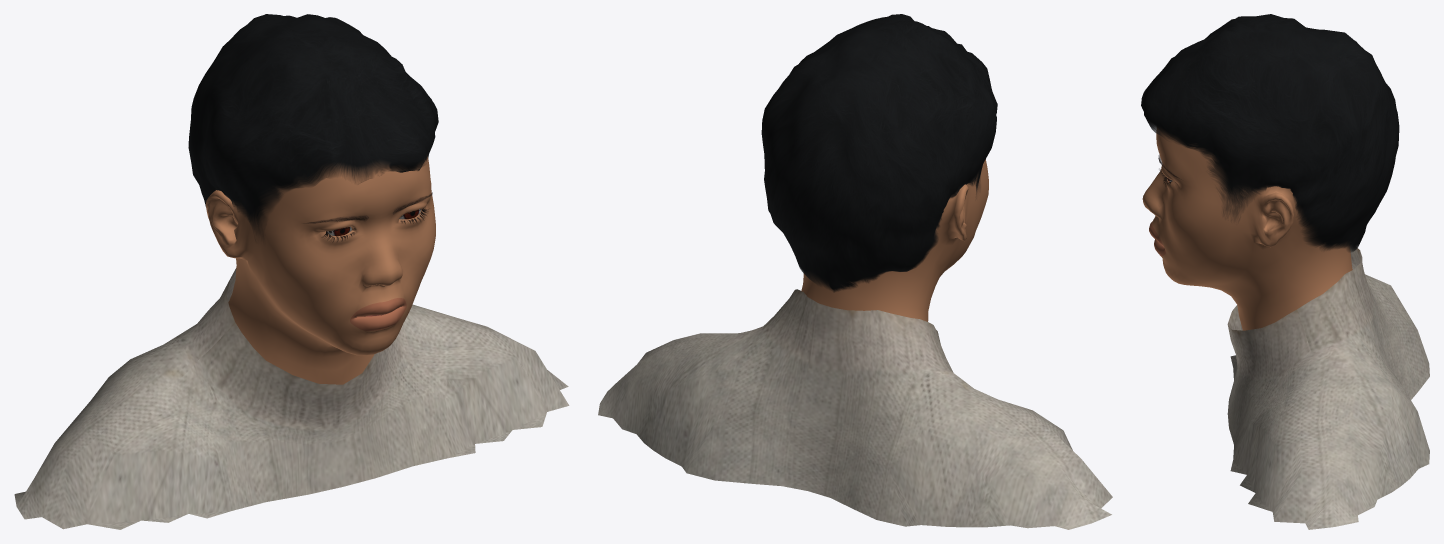
The model's file is man-06.glb.
3 renders of one model, left to right at view 1: azimuth 30°, elevation 25°; view 2: azimuth 150°, elevation 25°; view 3: azimuth 270°, elevation 25°, orthographic. The views are drawn at different scales.
Visible parts, largest first — view 1: mpfb-face.mindfront_knitted_sweater_01, mpfb-face.short02, mpfb-face; view 2: mpfb-face.mindfront_knitted_sweater_01, mpfb-face.short02, mpfb-face; view 3: mpfb-face.mindfront_knitted_sweater_01, mpfb-face.short02, mpfb-face.
Part boxes in pixels (box(x1,y1,x2,y2)): mpfb-face.mindfront_knitted_sweater_01: box(14, 268, 569, 529); mpfb-face.short02: box(188, 14, 438, 239); mpfb-face: box(205, 156, 435, 384); mpfb-face.mindfront_knitted_sweater_01: box(598, 289, 1112, 529); mpfb-face.short02: box(761, 14, 997, 292); mpfb-face: box(801, 159, 988, 321); mpfb-face.mindfront_knitted_sweater_01: box(1227, 246, 1429, 529); mpfb-face.short02: box(1141, 14, 1399, 252); mpfb-face: box(1142, 128, 1352, 330).
Size of the model in its own units: 0.4448 by 0.3445 by 0.2338.
9 materials, 7 textured.
